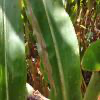Corn leaf blight: (0, 17, 100, 75)
